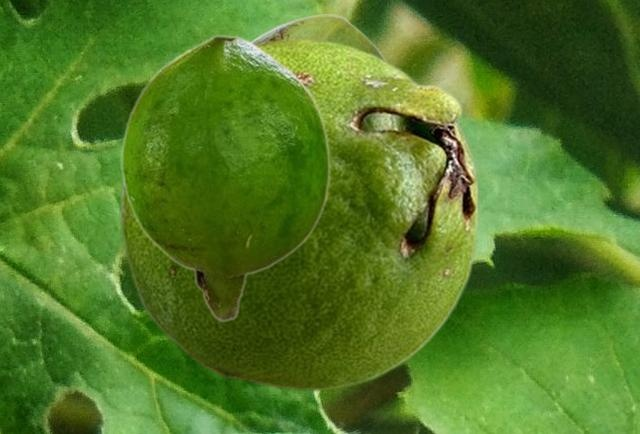guava: (119, 38, 479, 391), (120, 34, 330, 322), (249, 14, 387, 59)
